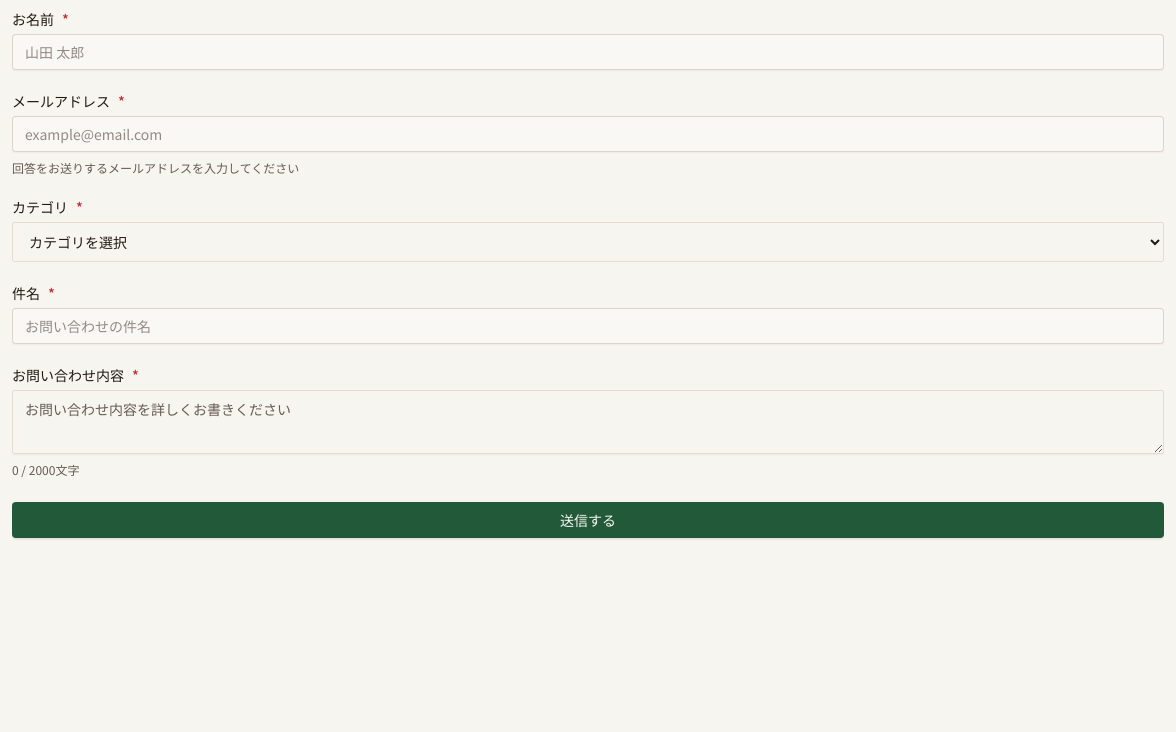
Test: ContactForm › バリデーション › メールアドレスが空の場合エラーを表示する
This screenshot has width=1176, height=732.
In the field labelled "お名前 *": point(588, 52) [12,34,1164,70], type "山田太郎"
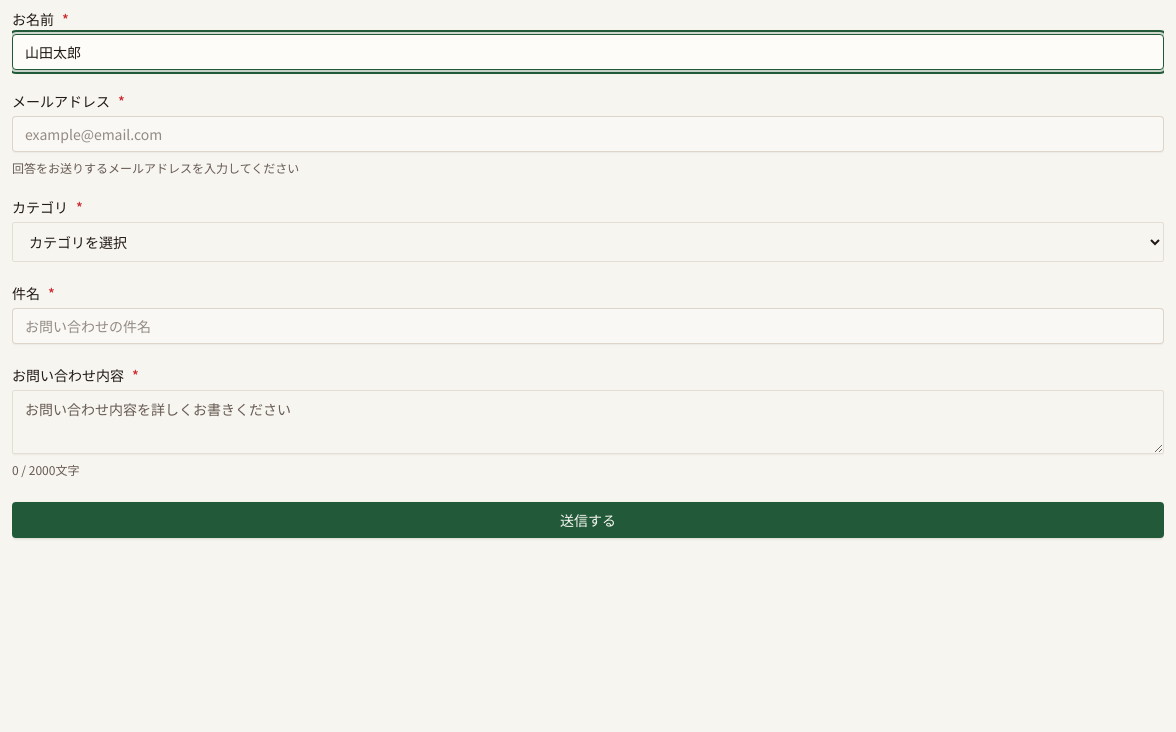
Click the button "送信する": point(588, 520) [12,502,1164,538]
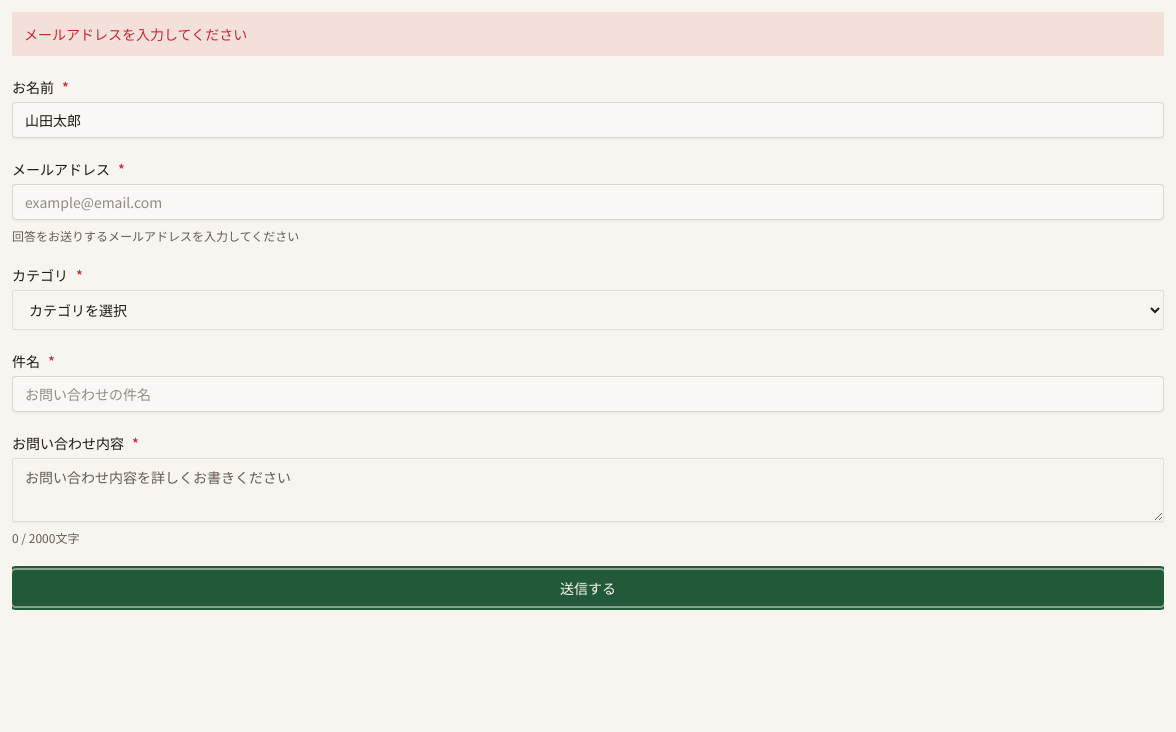
Expected: the text "メールアドレスを入力してください" is shown, [12,12,1164,56]
